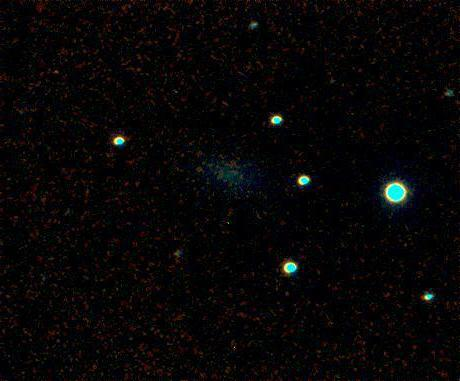star: (41, 60, 71, 90)
